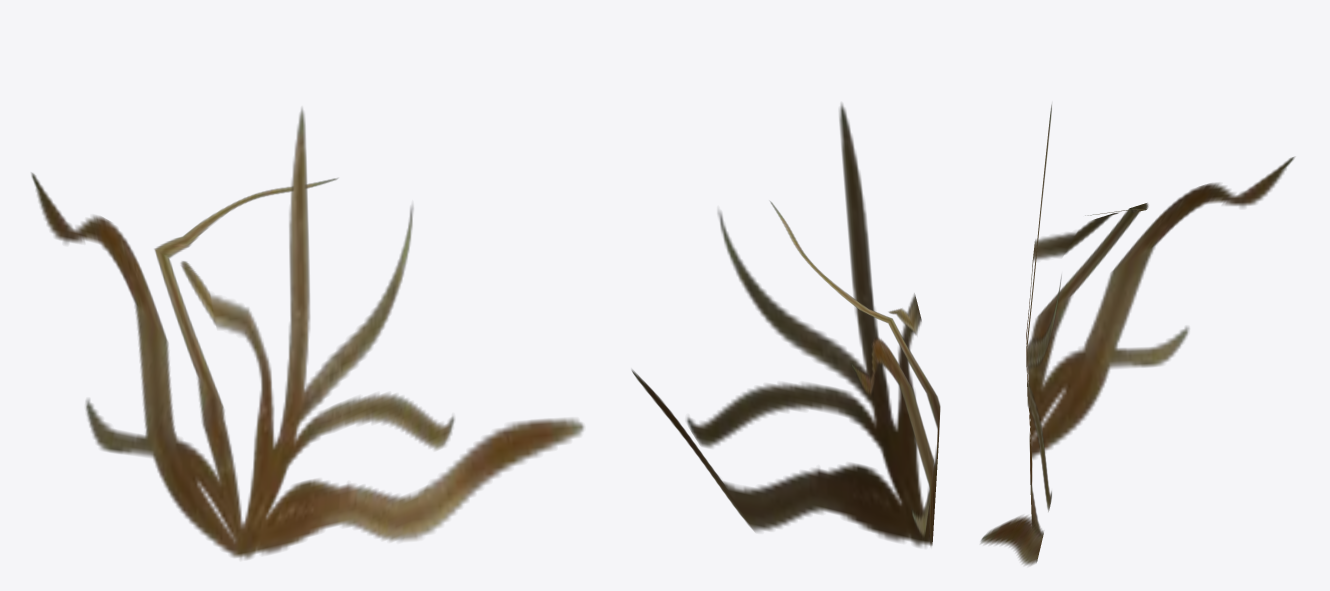
Rendered from grass_dead_b.glb.
3 views of the same model, side by side, from view 1: azimuth 30°, elevation 25°; view 2: azimuth 150°, elevation 25°; view 3: azimuth 270°, elevation 25° (orthographic). The views are drawn at different scales.
Parts seen in each view (by area): view 1: grass_bermuda_01_dead_b.001; view 2: grass_bermuda_01_dead_b.001; view 3: grass_bermuda_01_dead_b.001.
Part boxes in pixels (left/top/right/bottom): grass_bermuda_01_dead_b.001: left=31, top=108, right=583, bottom=559; grass_bermuda_01_dead_b.001: left=631, top=103, right=940, bottom=546; grass_bermuda_01_dead_b.001: left=980, top=105, right=1294, bottom=565.
Size of the model in its own units: 1.62 by 2.13 by 1.27.
1 material, 1 textured.
